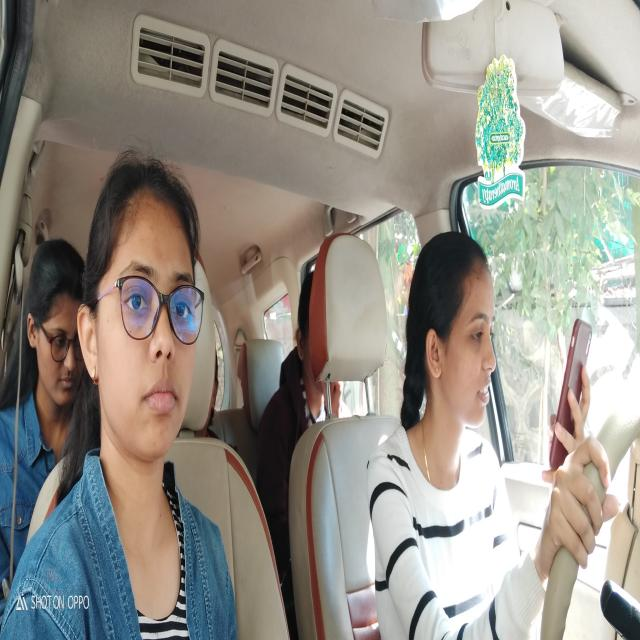mobile: (549, 306, 593, 479)
person: (76, 143, 210, 463), (406, 224, 499, 434), (23, 236, 87, 403), (292, 268, 345, 417), (205, 331, 227, 435)
